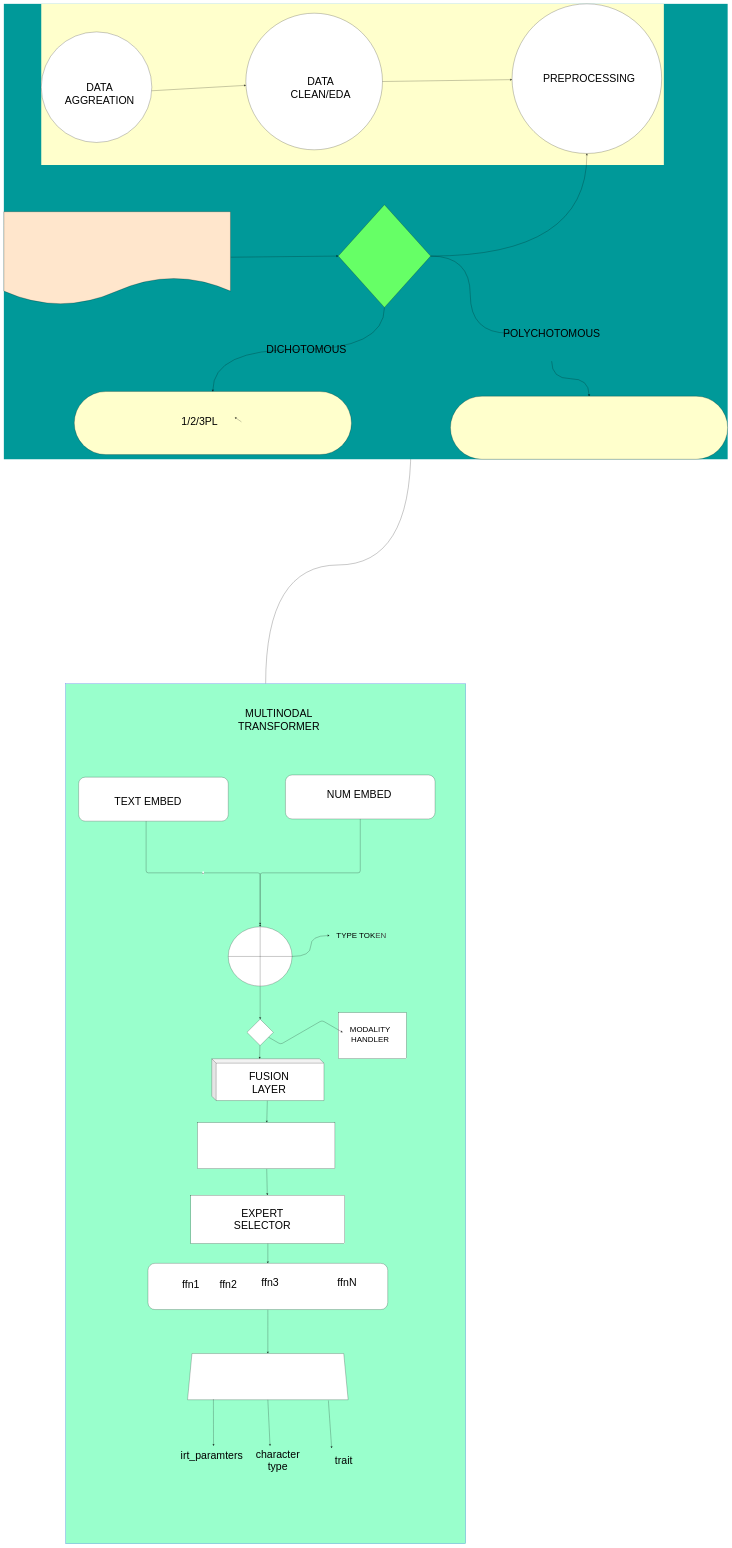
Some shapes in this 732 by 1548 pixel diagram are drawn without their labels. The centre of each missing label's shape, as x and y in pixels:
"CONDITION FOR dichotomous and polychotomous" goes at [117,258].
"GRM MODEL" goes at [589,427].
"MULTI MLP" goes at [267,1376].
"ROUTING" goes at [266,1145].
